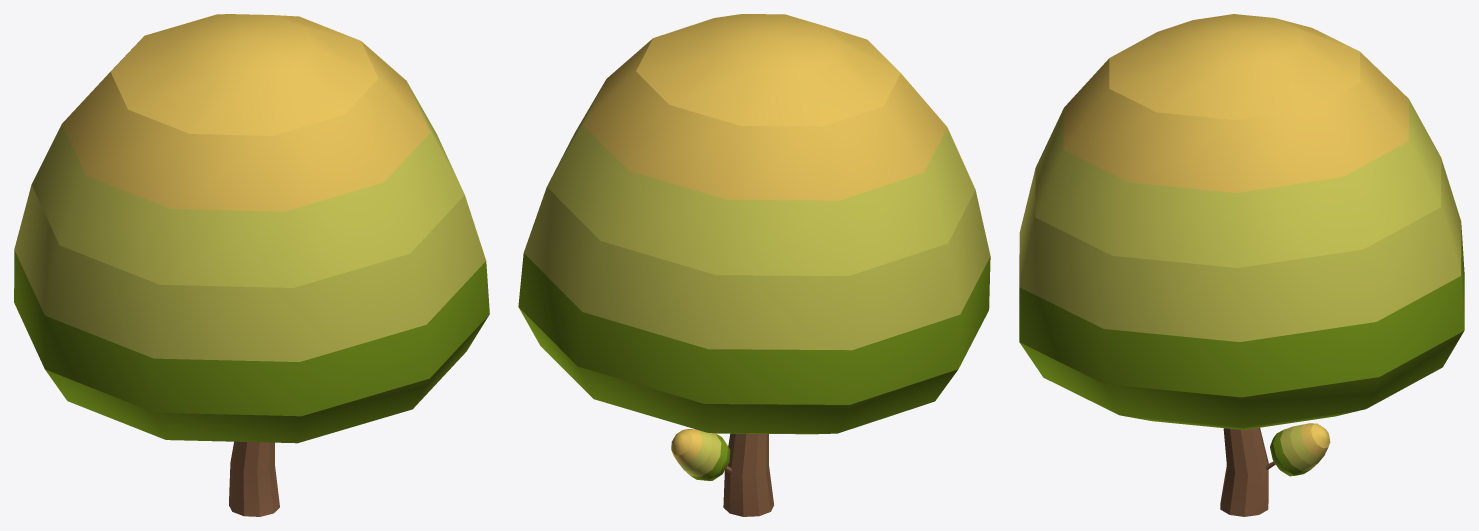
File: bush_01_low.fbx
3 renders of one model, left to right at view 1: azimuth 30°, elevation 25°; view 2: azimuth 150°, elevation 25°; view 3: azimuth 270°, elevation 25°, orthographic. The views are drawn at different scales.
Parts seen in each view (by area): view 1: bush_01_lod0; view 2: bush_01_lod0; view 3: bush_01_lod0.
Boxes of the visible parts, bbox=[...] form: bush_01_lod0: bbox=[14, 14, 489, 516]; bush_01_lod0: bbox=[518, 14, 990, 516]; bush_01_lod0: bbox=[1019, 14, 1464, 516].
Size of the model in its own units: 298 by 327 by 284.
